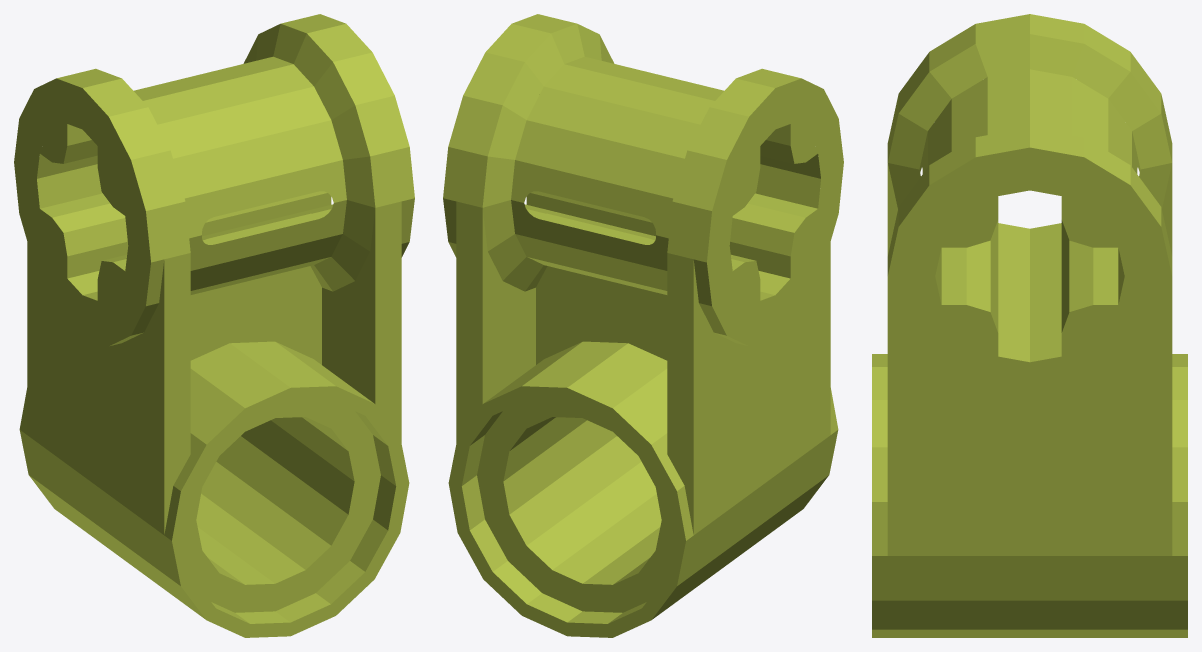
The picture shows the model from 3 angles, left to right: view 1: azimuth 30°, elevation 25°; view 2: azimuth 150°, elevation 25°; view 3: azimuth 270°, elevation 25°; orthographic projection. The views are drawn at different scales.
Visible parts, largest first — view 1: world; view 2: world; view 3: world.
Part boxes in pixels (x1,y1,x2,y2): world: (14, 14, 414, 637); world: (443, 14, 843, 637); world: (872, 14, 1187, 637).
Size of the model in its own units: 0.008 by 0.0152 by 0.008.
